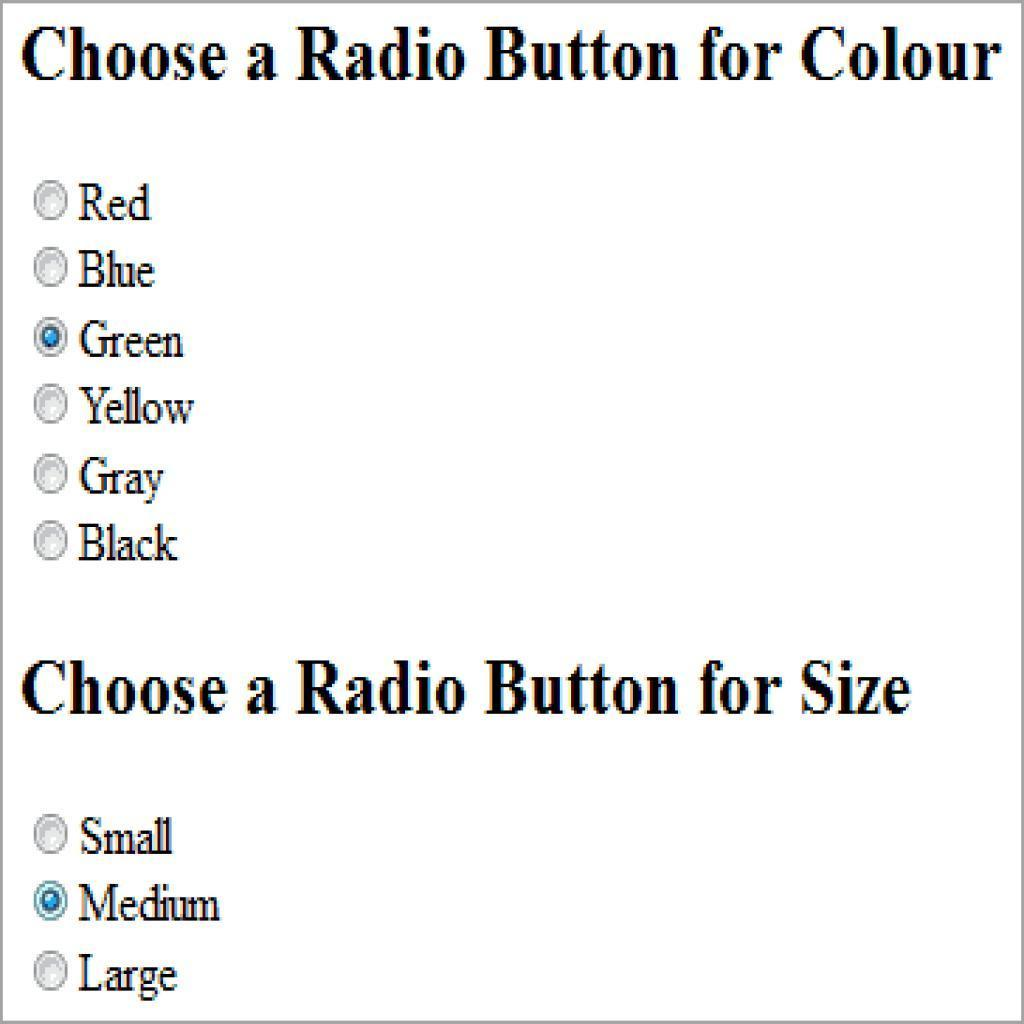radio: (27, 233, 73, 301), (30, 299, 75, 367), (27, 166, 75, 229), (27, 866, 77, 926), (30, 509, 79, 570), (24, 943, 73, 1004), (30, 443, 73, 506), (27, 379, 75, 434), (30, 803, 75, 861)
